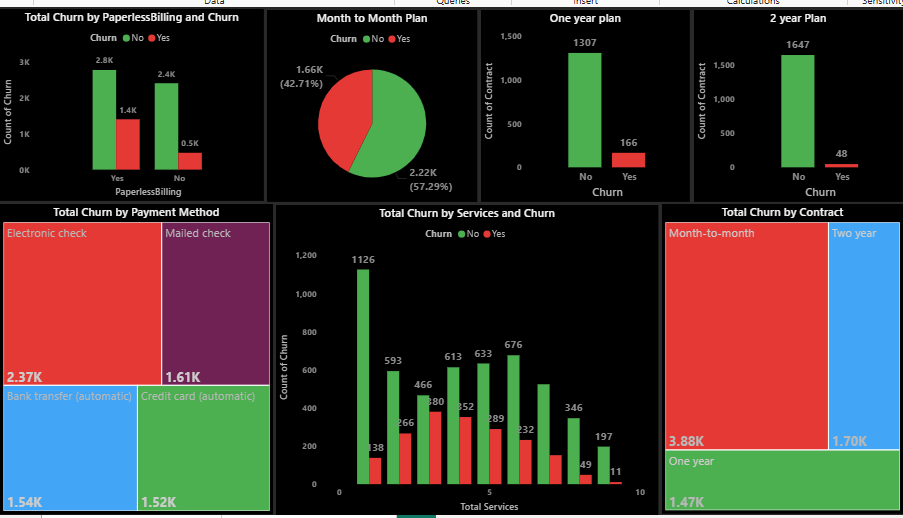

This screenshot's page, from the dashboard's own definition file:
{"tool":"powerbi","page":{"name":"Churn Drivers & Patterns","canvas":[1280,720],"ordinal":1},"visuals":[{"type":"clusteredColumnChart","title":"Total Churn by PaperlessBilling and Churn","fields":{"Category":["Cutomer_churn_analysis.PaperlessBilling"],"Y":["CountNonNull(Cutomer_churn_analysis.Churn)"],"Series":["Cutomer_churn_analysis.Churn"]},"box":[0,3.4,374,272],"z":0},{"type":"treemap","title":"Total Churn  by Payment Method","fields":{"Details":["Cutomer_churn_analysis.PaymentMethod"],"Values":["CountNonNull(Cutomer_churn_analysis.Churn)"]},"box":[0,279,387,440.1],"z":1000},{"type":"clusteredColumnChart","title":"Total Churn by  Services and Churn","fields":{"Category":["Cutomer_churn_analysis.Total Services"],"Y":["CountNonNull(Cutomer_churn_analysis.Churn)"],"Series":["Cutomer_churn_analysis.Churn"]},"box":[391,280,542,440],"z":2000},{"type":"pieChart","title":"Month to Month Plan","fields":{"Y":["CountNonNull(Cutomer_churn_analysis.Contract)"],"Category":["Cutomer_churn_analysis.Churn"]},"box":[379,4,298,272],"z":3000},{"type":"columnChart","title":"One year plan","fields":{"Category":["Cutomer_churn_analysis.Churn"],"Y":["CountNonNull(Cutomer_churn_analysis.Contract)"]},"box":[682,4,296,272],"z":4000},{"type":"columnChart","title":"2 year Plan","fields":{"Category":["Cutomer_churn_analysis.Churn"],"Y":["CountNonNull(Cutomer_churn_analysis.Contract)"]},"box":[983,4.3,296,272],"z":5000},{"type":"treemap","title":"Total Churn by Contract","fields":{"Details":["Cutomer_churn_analysis.Contract"],"Values":["CountNonNull(Cutomer_churn_analysis.Churn)"]},"box":[938,279,342,439],"z":6000}]}

Visuals, with their boxes in screenshot pixels (x1, y1, x2, y2):
"Total Churn by PaperlessBilling and Churn" clusteredColumnChart: pyautogui.locateOnScreen(7, 14, 267, 203)
"Total Churn  by Payment Method" treemap: pyautogui.locateOnScreen(7, 206, 276, 512)
"Total Churn by  Services and Churn" clusteredColumnChart: pyautogui.locateOnScreen(279, 207, 656, 513)
"Month to Month Plan" pieChart: pyautogui.locateOnScreen(271, 15, 478, 204)
"One year plan" columnChart: pyautogui.locateOnScreen(482, 15, 687, 204)
"2 year Plan" columnChart: pyautogui.locateOnScreen(691, 15, 897, 204)
"Total Churn by Contract" treemap: pyautogui.locateOnScreen(660, 206, 898, 511)
